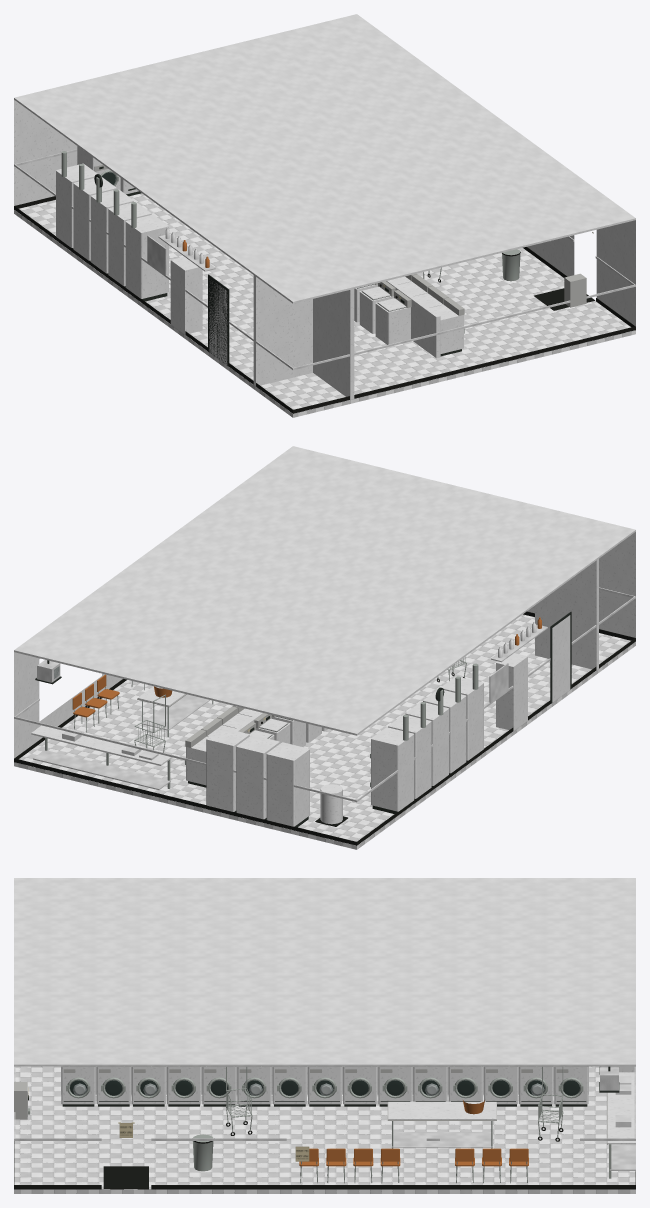
The model's file is SM_Town_Laundry_Interior.glb.
3 renders of one model, top to bottom at view 1: azimuth 30°, elevation 25°; view 2: azimuth 150°, elevation 25°; view 3: azimuth 270°, elevation 25°, orthographic. The views are drawn at different scales.
Parts seen in each view (by area): view 1: SM_Town_Laundry_Interior; view 2: SM_Town_Laundry_Interior; view 3: SM_Town_Laundry_Interior.
Boxes of the visible parts, x1,y1,x2,y2 form: SM_Town_Laundry_Interior: (14,14,635,417); SM_Town_Laundry_Interior: (14,446,635,849); SM_Town_Laundry_Interior: (14,878,635,1193).
Size of the model in its own units: 9.96 by 3.16 by 13.78.
25 materials, 18 textured.
